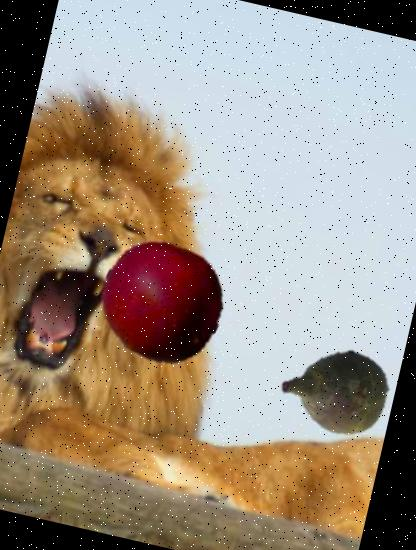Beetroot: (268, 324, 404, 460)
Nectarine: (88, 228, 236, 376)
